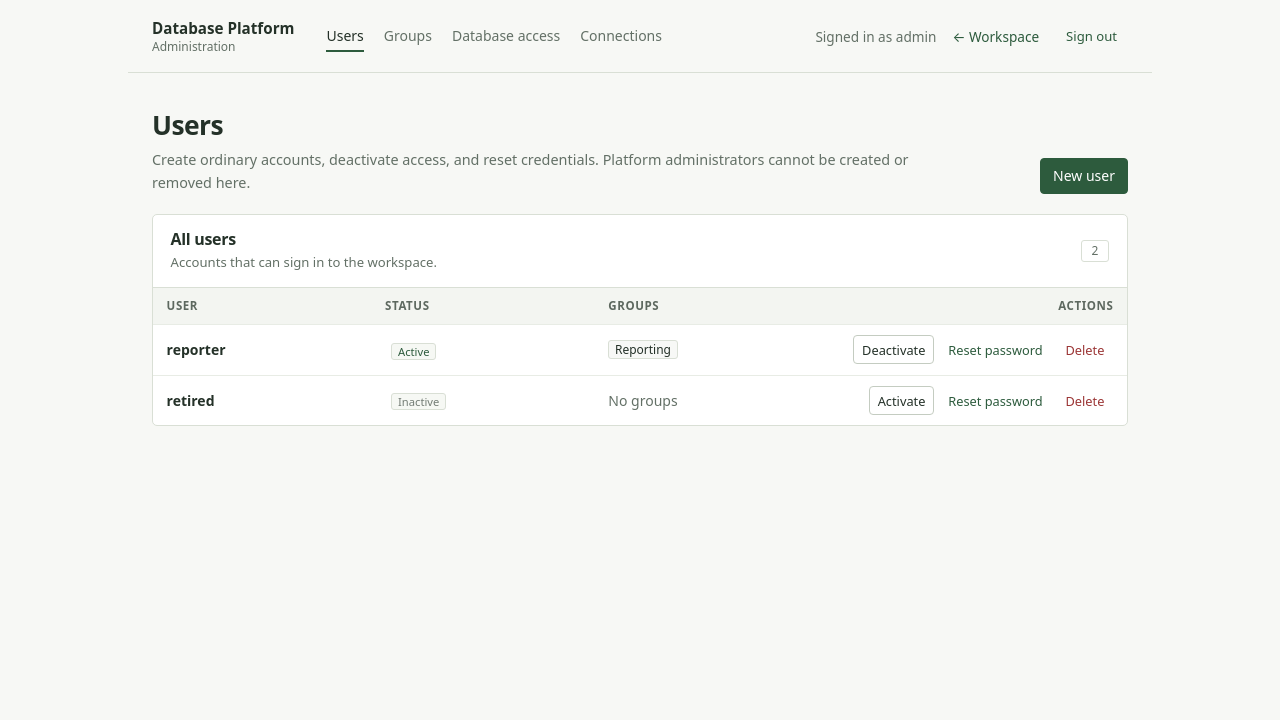
Test case: administrator can open user management and create an ordinary user
Check: the heading "Users" is shown, box x1=152 y1=107 x2=223 y2=143
Check: the text "reporter" is shown, box x1=167 y1=340 x2=226 y2=359
Click the button "New user". click: {"x": 1084, "y": 176}
box: x1=1040 y1=158 x2=1128 y2=194
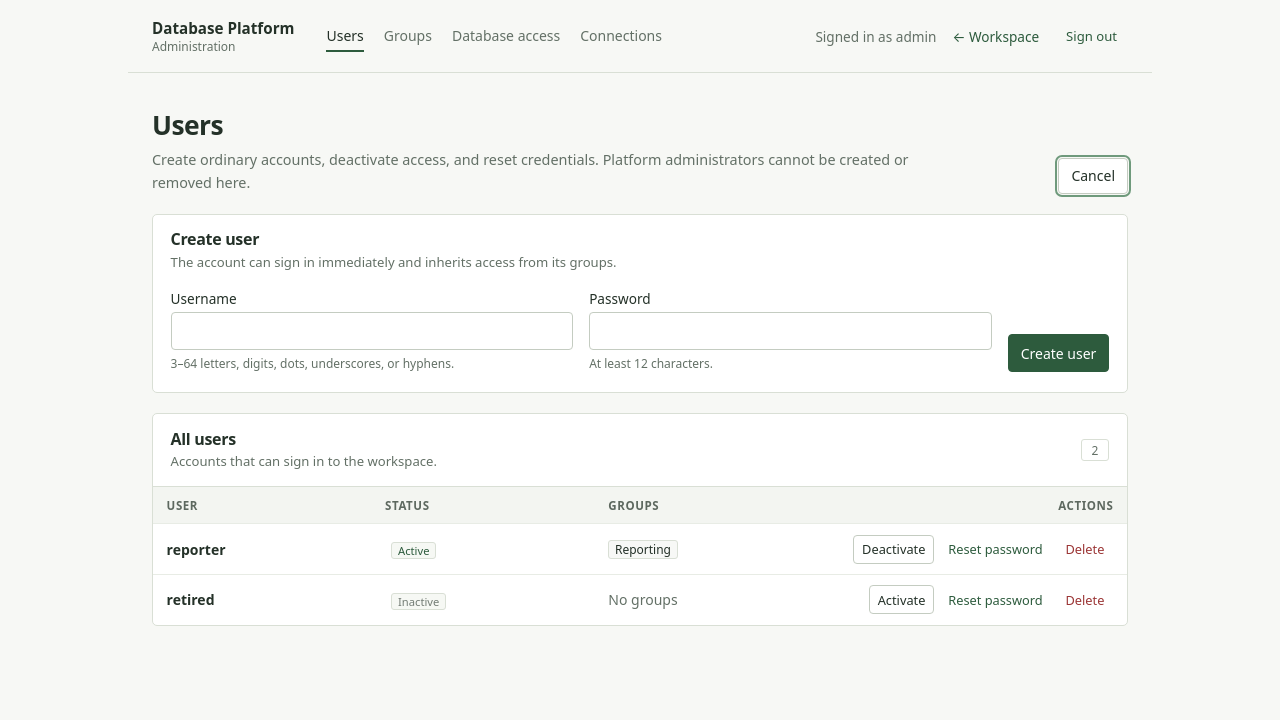
Type "new-analyst" into the field labelled "Username". click: {"x": 372, "y": 331}
box: x1=171 y1=312 x2=573 y2=350
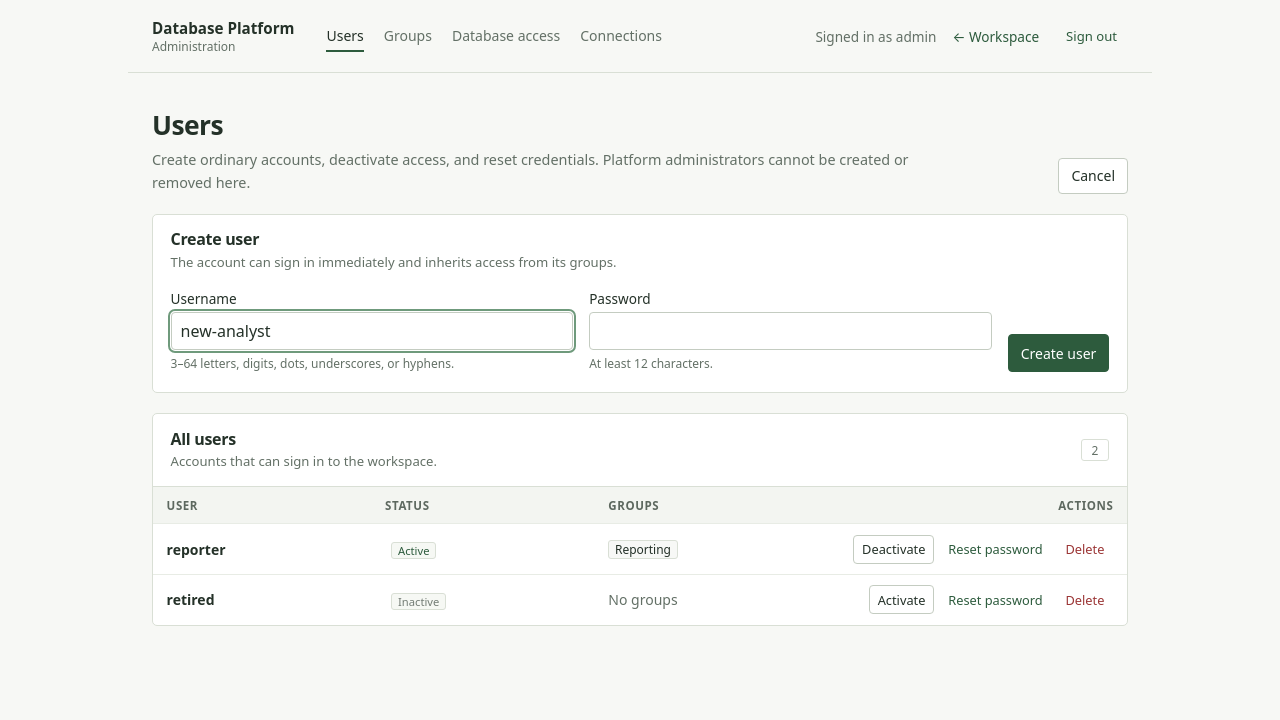
Type "new analyst password" into the password field labelled "Password". click: {"x": 790, "y": 331}
box: x1=589 y1=312 x2=992 y2=350
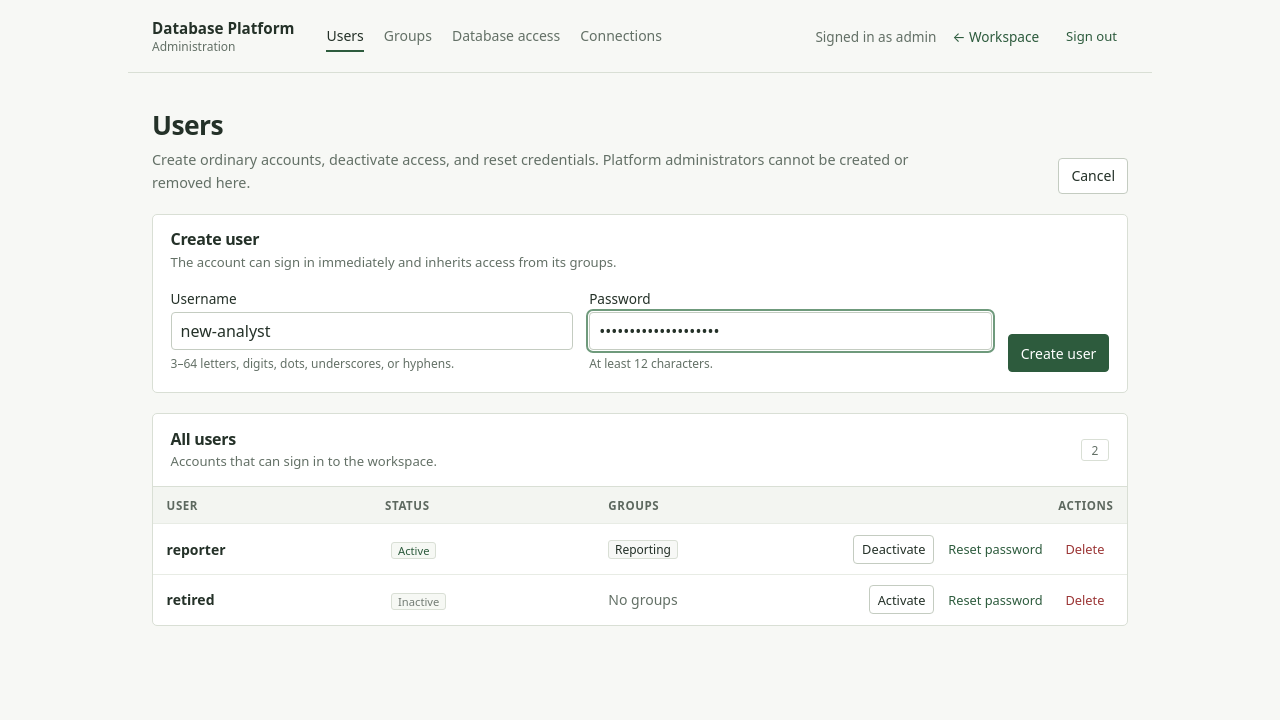
Click the button "Create user". click: {"x": 1059, "y": 353}
box: x1=1008 y1=334 x2=1109 y2=372
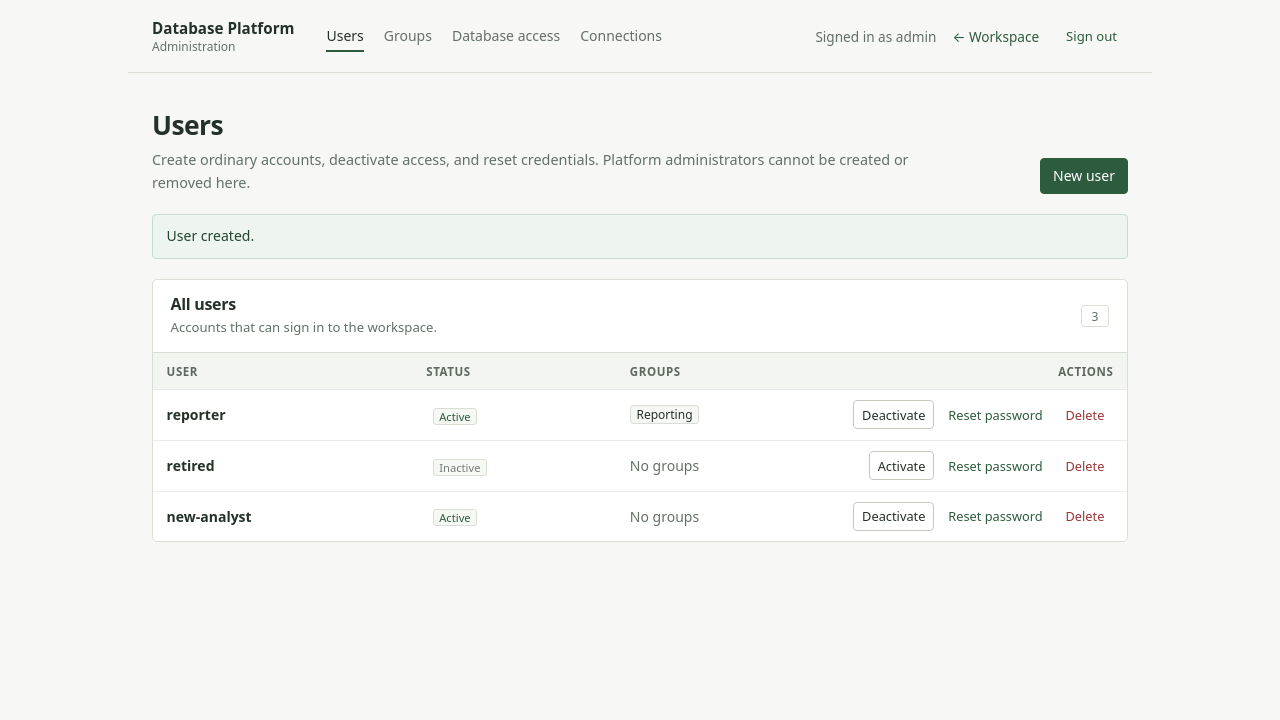
Check: the text "new-analyst" is shown, box x1=167 y1=507 x2=252 y2=526
Check: the message reads "User created.", box x1=167 y1=226 x2=254 y2=245
